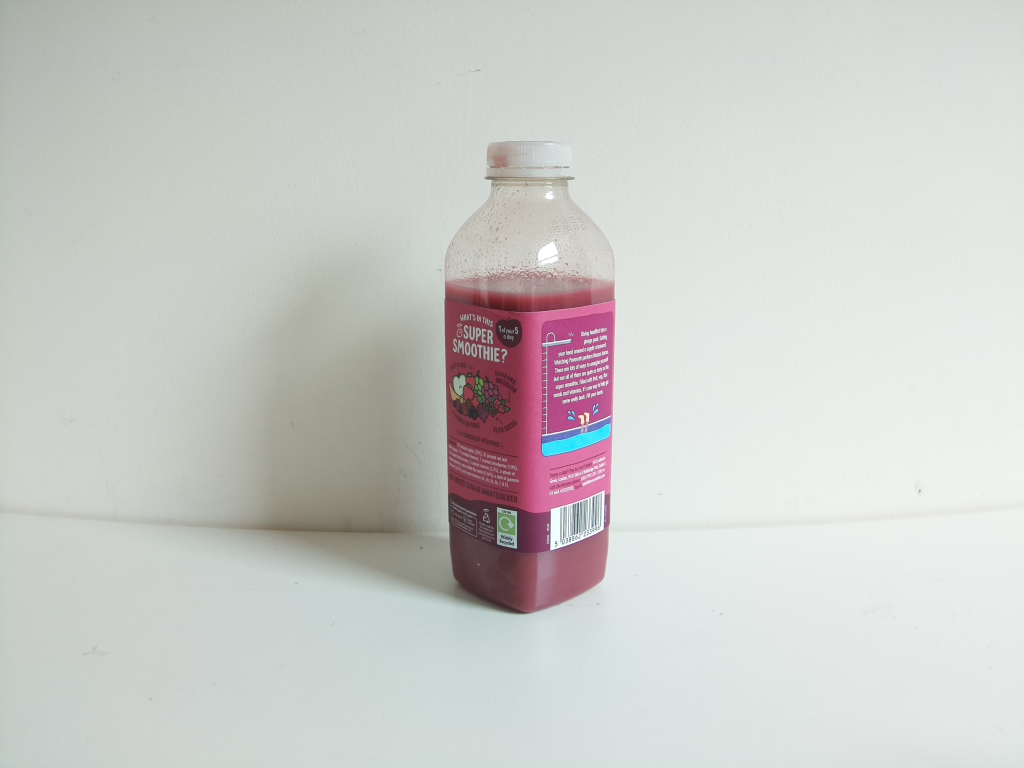juice: (431, 135, 626, 621)
